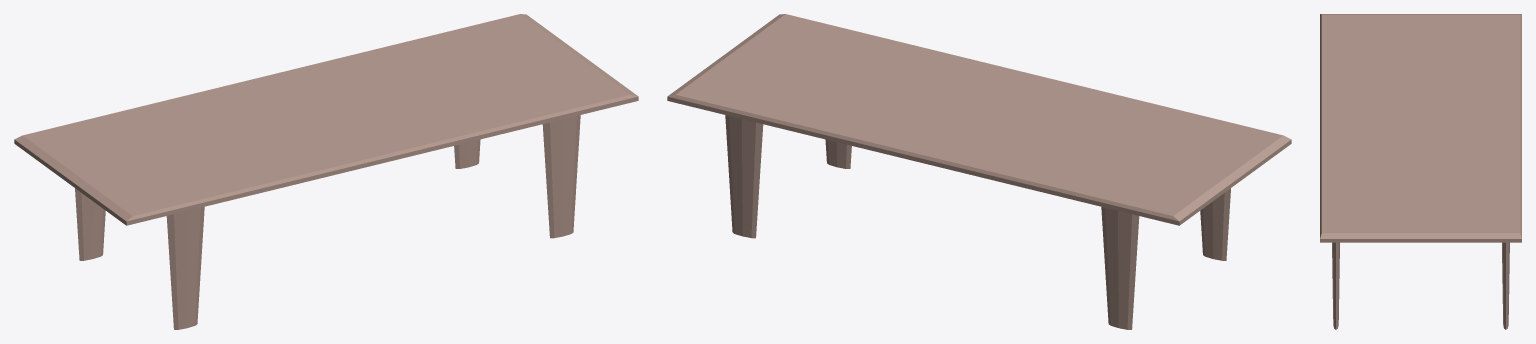
Rendered from table02.gltf.
3 views of the same model, side by side, from view 1: azimuth 30°, elevation 25°; view 2: azimuth 150°, elevation 25°; view 3: azimuth 270°, elevation 25° (orthographic). The views are drawn at different scales.
Parts seen in each view (by area): view 1: Table_Large_Rectangular_01_Circle.004; view 2: Table_Large_Rectangular_01_Circle.004; view 3: Table_Large_Rectangular_01_Circle.004.
Part boxes in pixels (box(x1,y1,x2,y2)): Table_Large_Rectangular_01_Circle.004: box(14, 14, 638, 329); Table_Large_Rectangular_01_Circle.004: box(667, 14, 1291, 329); Table_Large_Rectangular_01_Circle.004: box(1320, 14, 1521, 329).
Bounding box in the file's own units: 3.79 × 0.93 × 1.44.
